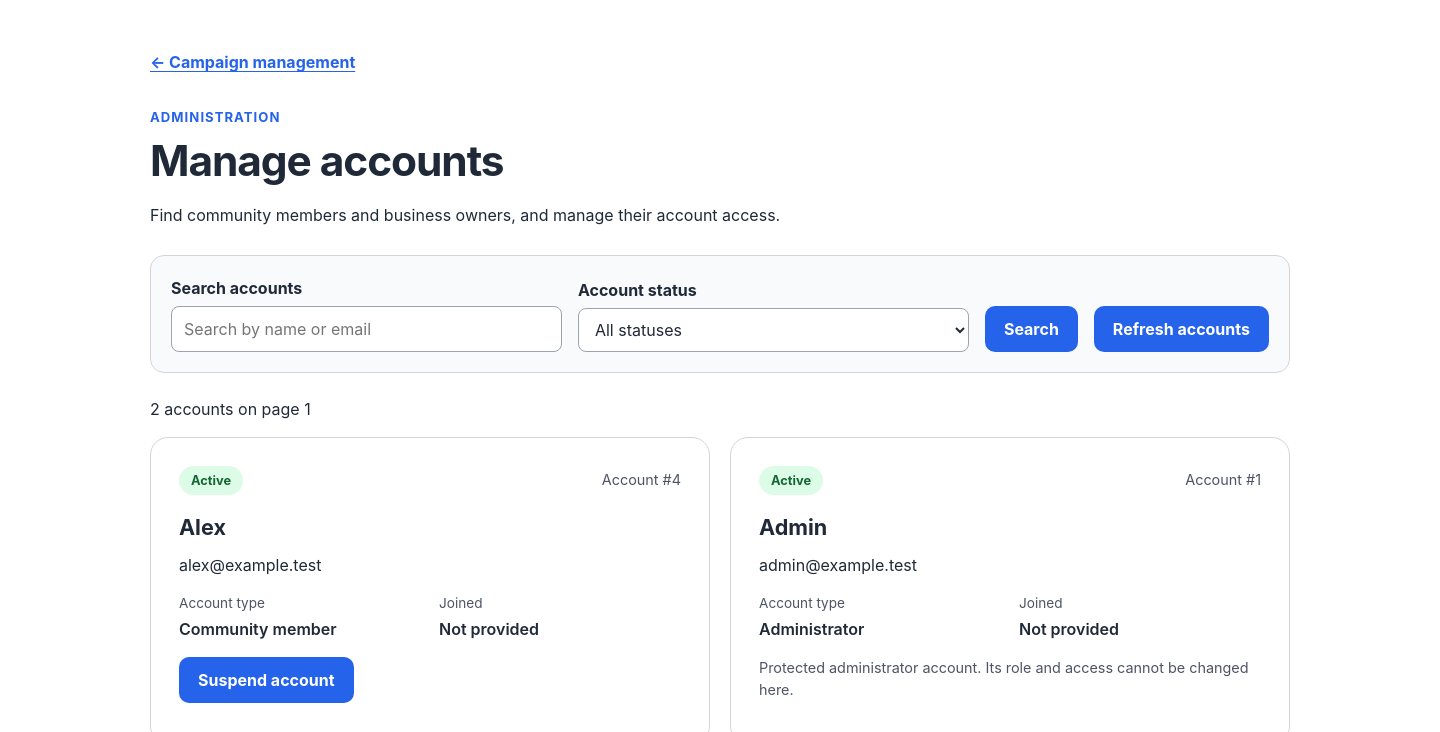
administrator account management › reloads account conflicts without showing a success message
Click the button named "Suspend account: Alex": [266, 680] box [179, 657, 354, 703]
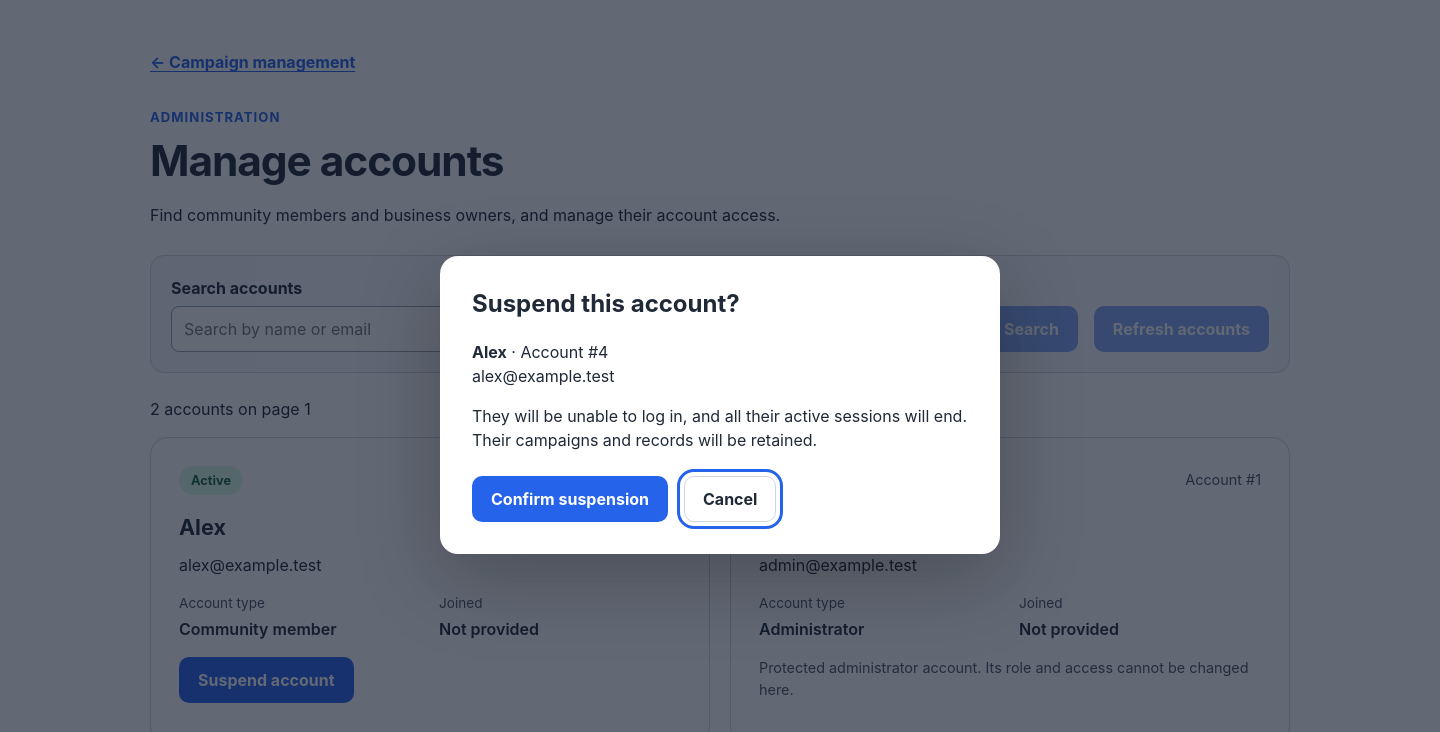
Click the button "Confirm suspension": [570, 498] box [472, 476, 668, 522]
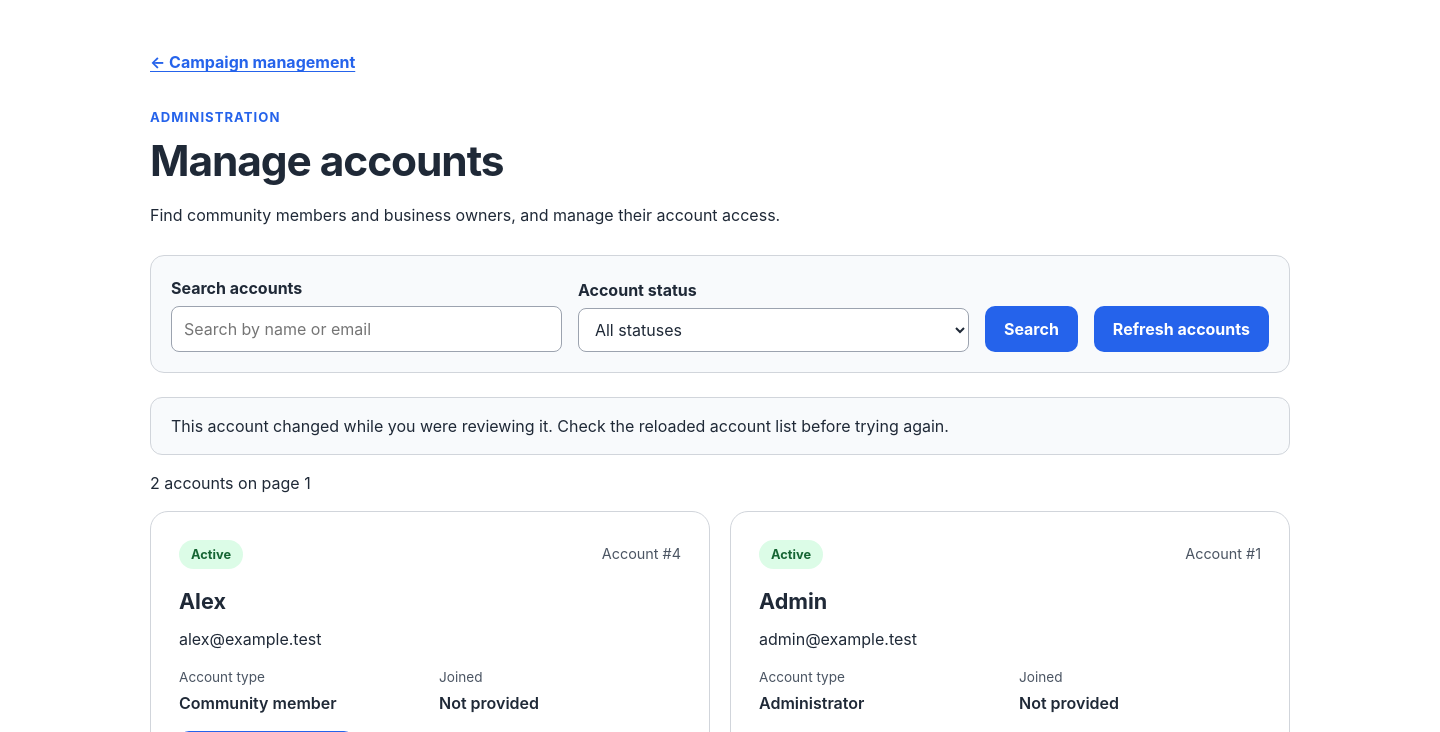
Expected: the text "account changed while you were reviewing" is shown, [171, 416, 949, 436]
